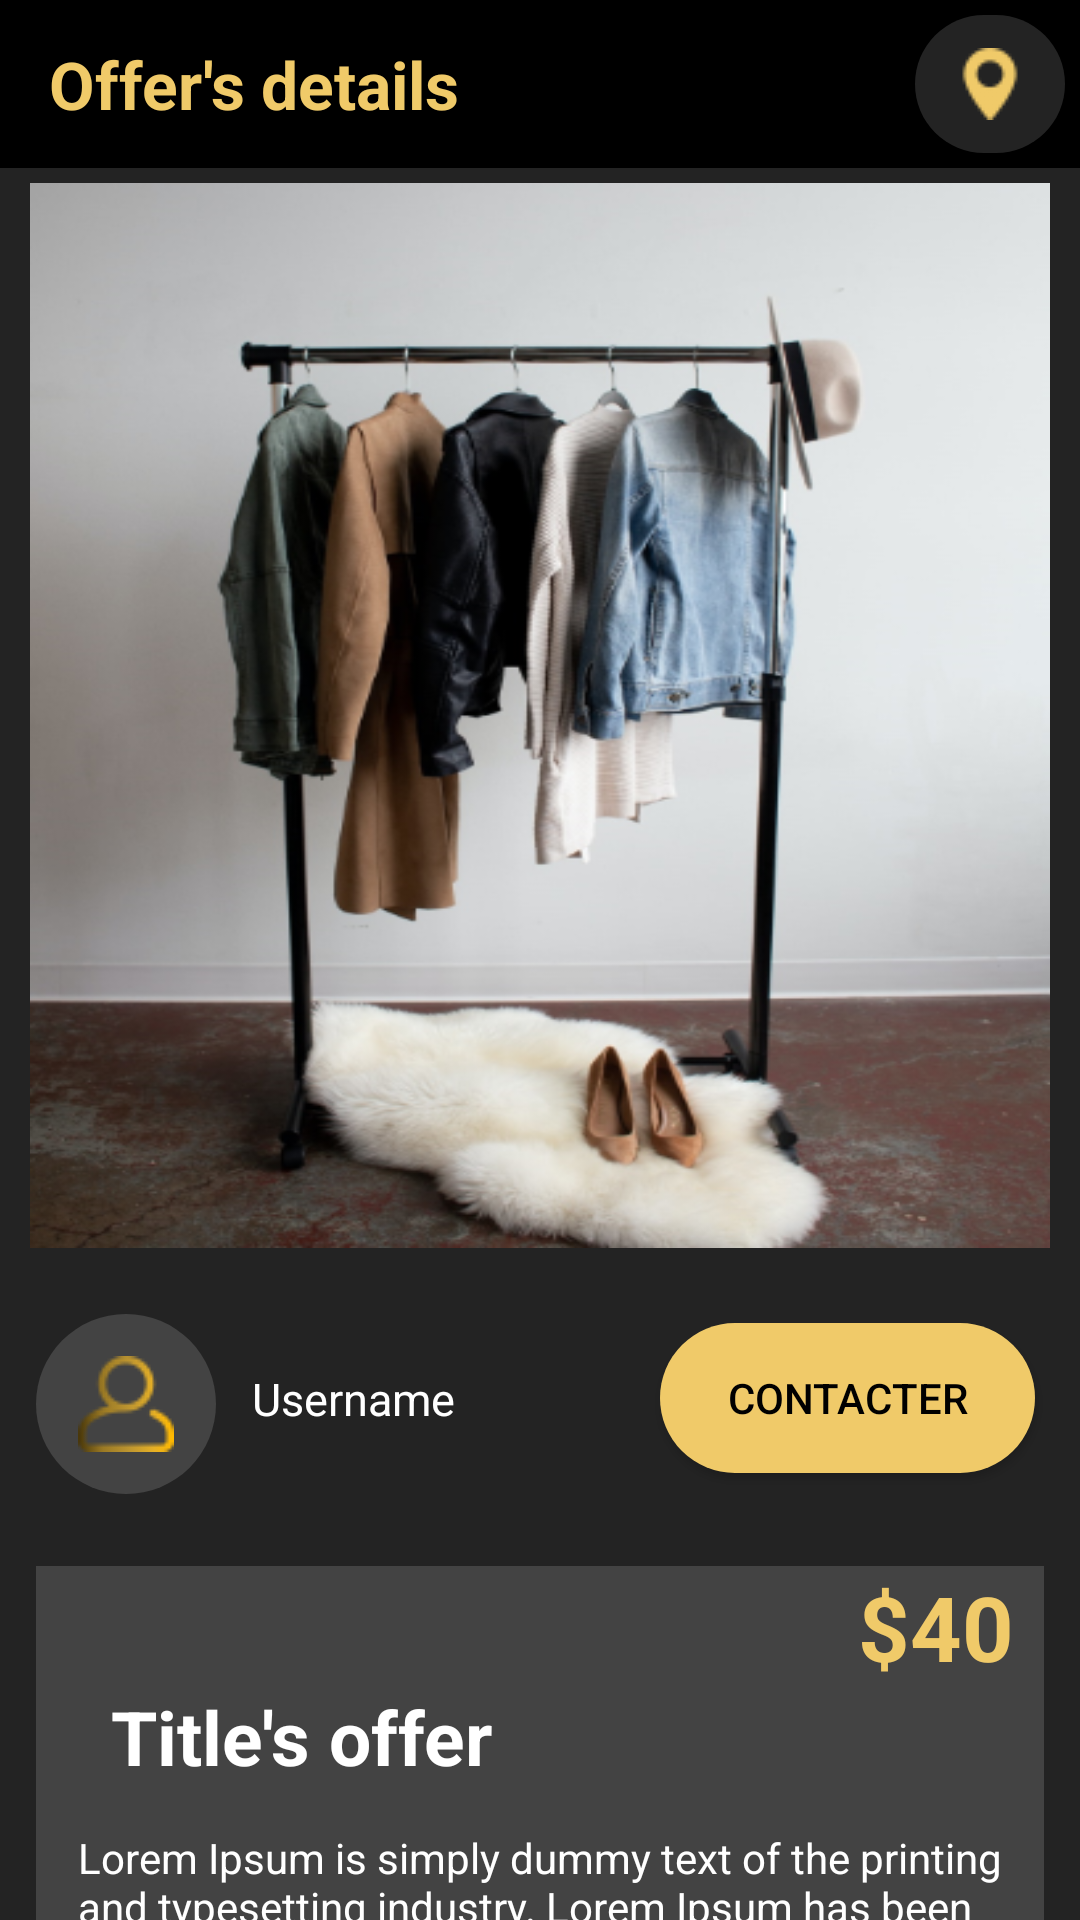

Point at icon controls on the screen. Image size 1080x1920, points as (x,y).
maps: (990,84)
